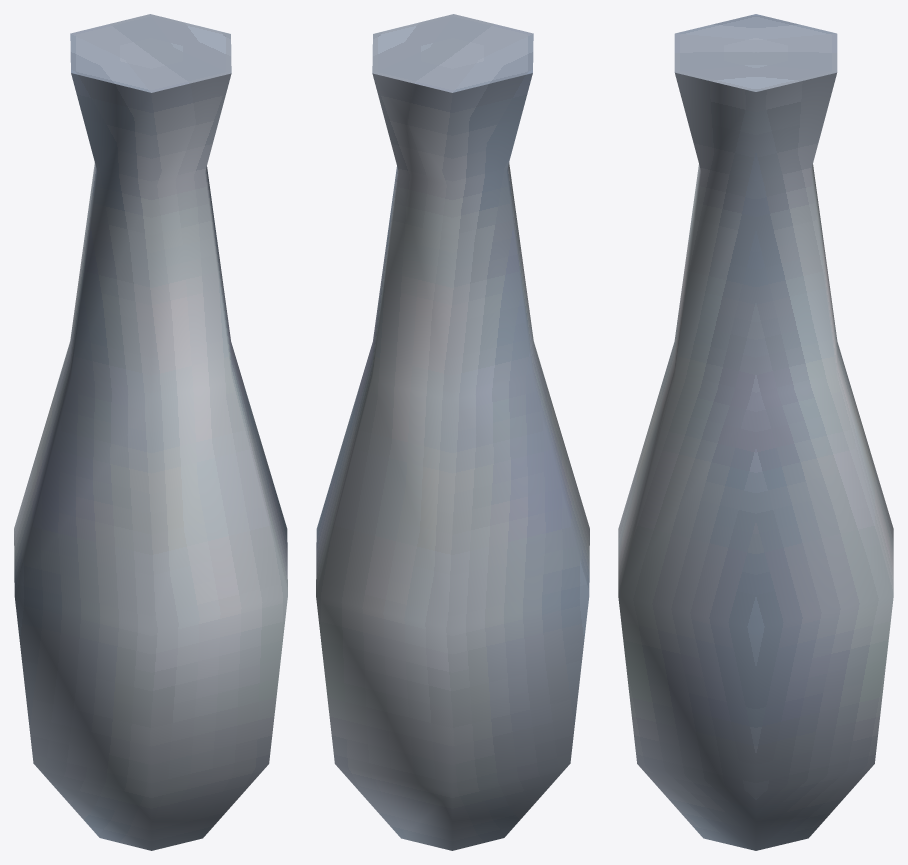
File: yaoping.FBX
3 views of the same model, side by side, from view 1: azimuth 30°, elevation 25°; view 2: azimuth 150°, elevation 25°; view 3: azimuth 270°, elevation 25° (orthographic).
Visible parts, largest first — view 1: yaoping; view 2: yaoping; view 3: yaoping.
Boxes of the visible parts, bbox=[...] form: yaoping: bbox=[14, 14, 287, 850]; yaoping: bbox=[316, 14, 589, 850]; yaoping: bbox=[618, 14, 893, 850].
Size of the model in its own units: 0.1025 by 0.2773 by 0.0896.
